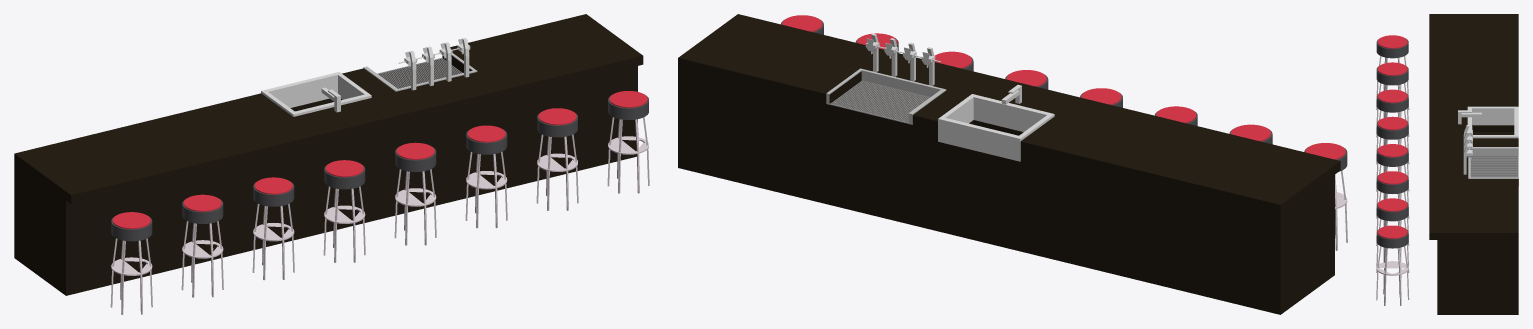
The model's file is barradebar.fbx.
The picture shows the model from 3 angles, left to right: view 1: azimuth 30°, elevation 25°; view 2: azimuth 150°, elevation 25°; view 3: azimuth 270°, elevation 25°; orthographic projection. The views are drawn at different scales.
Parts seen in each view (by area): view 1: Cube, Cube.009, Cube.002, Cube.004, Cube.005; view 2: Cube, Cube.009, Cube.002, Cube.005, Cube.006, Cube.004; view 3: Cube, Cube.009, Cube.002, Cube.005, Cube.006, Cube.004, Cube.001.
Part boxes in pixels (box(x1,y1,x2,y2)): Cube: box(14, 14, 643, 295); Cube.009: box(110, 91, 649, 314); Cube.002: box(261, 72, 371, 116); Cube.004: box(399, 38, 470, 90); Cube.005: box(378, 58, 462, 88); Cube: box(678, 14, 1340, 314); Cube.009: box(781, 15, 1347, 250); Cube.002: box(938, 94, 1054, 161); Cube.005: box(831, 80, 930, 122); Cube.006: box(826, 68, 946, 124); Cube.004: box(865, 33, 940, 85); Cube: box(1429, 14, 1518, 314); Cube.009: box(1376, 35, 1409, 305); Cube.002: box(1467, 106, 1518, 138); Cube.005: box(1470, 156, 1517, 177); Cube.006: box(1468, 147, 1518, 185); Cube.004: box(1463, 125, 1472, 174); Cube.001: box(1458, 110, 1481, 124).
Size of the model in its own units: 10330 by 2425 by 2844.
